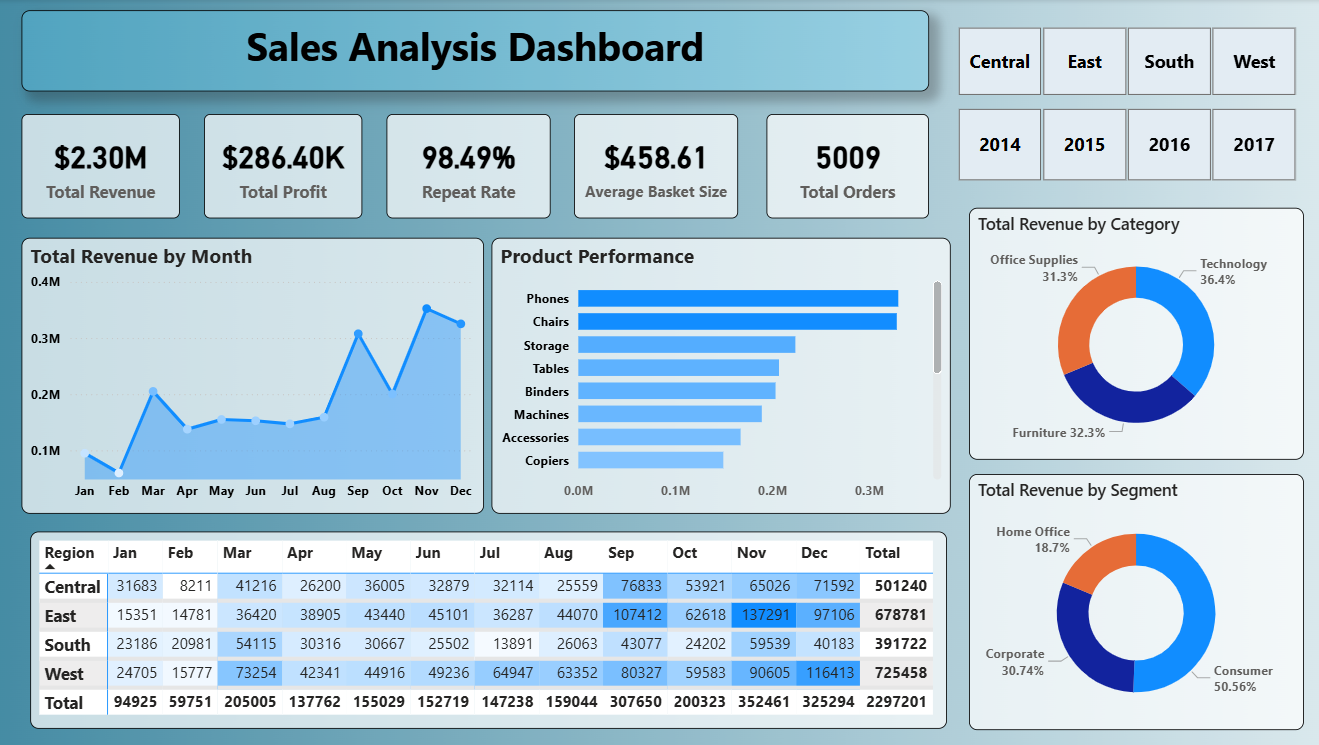

The page's visual inventory and layout, read from the dashboard file:
{"tool":"powerbi","page":{"name":"Page 1","canvas":[1280,720],"ordinal":0},"visuals":[{"type":"card","fields":{"Values":["cleaned_sales_data.Total Revenue"]},"box":[26.3,110.9,152.7,101.2],"z":0},{"type":"card","fields":{"Values":["cleaned_sales_data.Total Orders"]},"box":[746,110.9,156.6,101.2],"z":1000},{"type":"card","fields":{"Values":["cleaned_sales_data.Repeat Rate"]},"box":[378.4,110.9,158.5,101.2],"z":2000},{"type":"card","fields":{"Values":["cleaned_sales_data.Average Basket Size"]},"box":[560.2,110.9,158.5,101.2],"z":3000},{"type":"clusteredBarChart","title":"Product Performance","fields":{"Y":["cleaned_sales_data.Total Revenue"],"Category":["cleaned_sales_data.sub-category"]},"box":[480.5,230.5,443.5,266.5],"z":4000},{"type":"pivotTable","fields":{"Rows":["cleaned_sales_data.region"],"Columns":["cleaned_sales_data.month_short"],"Values":["cleaned_sales_data.Total Revenue"]},"box":[35,514.5,885.1,190.6],"z":5000},{"type":"donutChart","title":"Total Revenue by Category","fields":{"Category":["cleaned_sales_data.category"],"Y":["cleaned_sales_data.Total Revenue"]},"box":[940.5,201.3,322.9,243.2],"z":6000},{"type":"card","fields":{"Values":["cleaned_sales_data.Total Profit"]},"box":[202.3,110.9,152.7,101.2],"z":7000},{"type":"stackedAreaChart","title":"Total Revenue by Month","fields":{"Y":["cleaned_sales_data.Total Revenue"],"Category":["cleaned_sales_data.month_short"]},"box":[26.3,230.5,446.4,266.5],"z":8000},{"type":"donutChart","title":"Total Revenue by Segment","fields":{"Category":["cleaned_sales_data.segment"],"Y":["cleaned_sales_data.Total Revenue"]},"box":[940.5,458.1,322.9,247.1],"z":9000},{"type":"slicer","title":"Region","fields":{"Values":["cleaned_sales_data.region"]},"box":[904.6,20.4,375.4,78.8],"z":10000},{"type":"textbox","box":[26.3,10.7,876.4,78.8],"z":11000},{"type":"slicer","fields":{"Values":["cleaned_sales_data.year"]},"box":[904.6,99.2,375.4,82.7],"z":12000}]}

Visuals, with their boxes in screenshot pixels (x1, y1, x2, y2), scaled from the page's 1280x720 canvas onto the 1319x745 screenshot:
card - cleaned_sales_data.Total Revenue: select_region(27, 115, 184, 219)
card - cleaned_sales_data.Total Orders: select_region(769, 115, 930, 219)
card - cleaned_sales_data.Repeat Rate: select_region(390, 115, 553, 219)
card - cleaned_sales_data.Average Basket Size: select_region(577, 115, 741, 219)
"Product Performance" clusteredBarChart: select_region(495, 239, 952, 514)
pivotTable - cleaned_sales_data.region x cleaned_sales_data.month_short: select_region(36, 532, 948, 730)
"Total Revenue by Category" donutChart: select_region(969, 208, 1302, 460)
card - cleaned_sales_data.Total Profit: select_region(208, 115, 366, 219)
"Total Revenue by Month" stackedAreaChart: select_region(27, 239, 487, 514)
"Total Revenue by Segment" donutChart: select_region(969, 474, 1302, 730)
"Region" slicer: select_region(932, 21, 1318, 103)
textbox: select_region(27, 11, 930, 93)
slicer - cleaned_sales_data.year: select_region(932, 103, 1318, 188)
